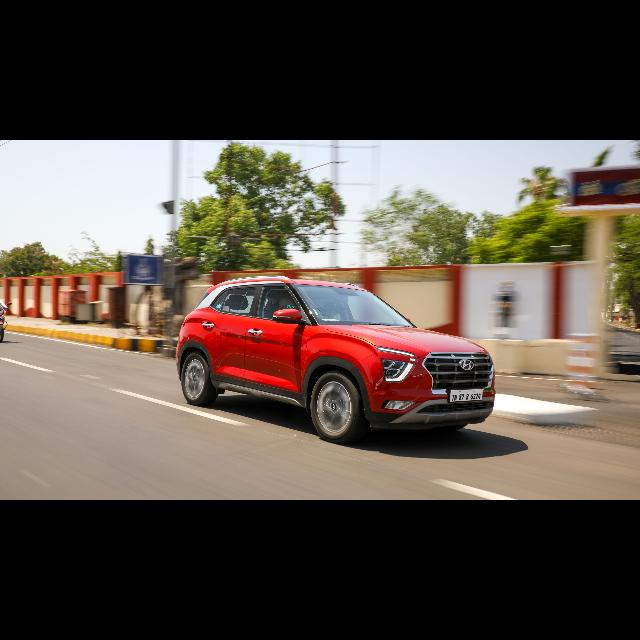vehicles: (174, 270, 496, 442)
